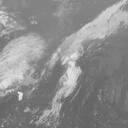cyclone: (49, 40, 83, 99)
